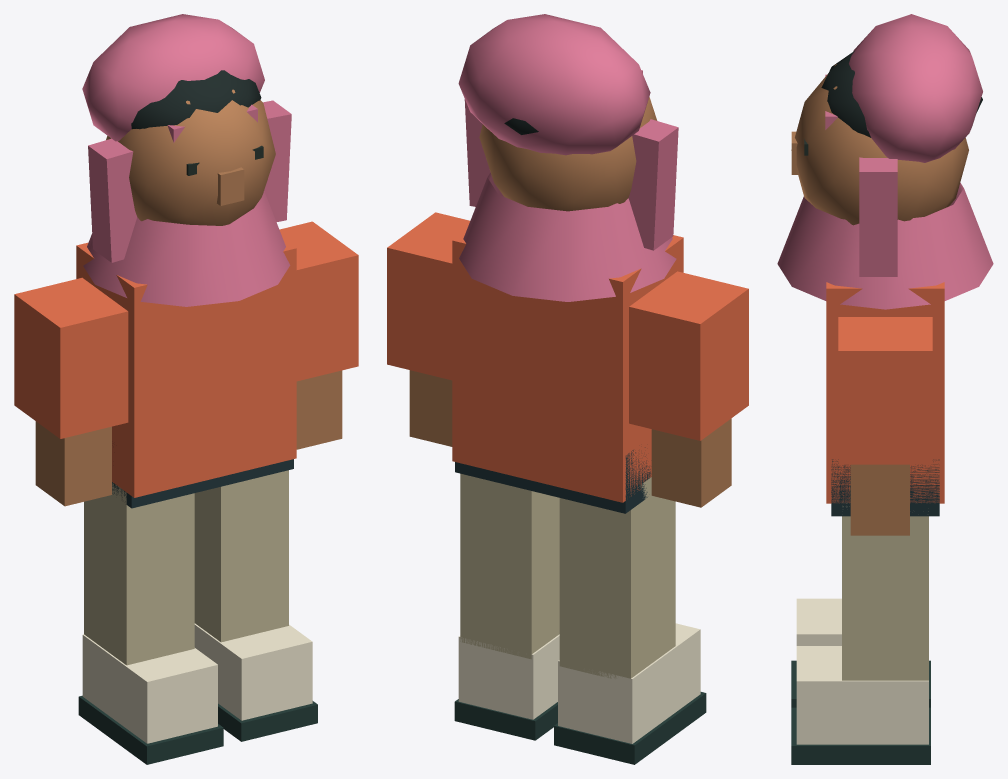
Rendered from female-tudung-ruffle.glb.
The picture shows the model from 3 angles, left to right: view 1: azimuth 30°, elevation 25°; view 2: azimuth 150°, elevation 25°; view 3: azimuth 270°, elevation 25°; orthographic projection. The views are drawn at different scales.
Visible parts, largest first — view 1: female-tudung-ruffle, avatar-tudung, tudung-neck-wrap; view 2: female-tudung-ruffle, avatar-tudung, tudung-neck-wrap; view 3: female-tudung-ruffle, avatar-tudung, tudung-neck-wrap.
Part boxes in pixels (x1=…): female-tudung-ruffle: x1=14, y1=70, x2=358, y2=764; avatar-tudung: x1=82, y1=14, x2=291, y2=262; tudung-neck-wrap: x1=83, y1=191, x2=290, y2=306; female-tudung-ruffle: x1=387, y1=97, x2=748, y2=764; avatar-tudung: x1=458, y1=14, x2=678, y2=250; tudung-neck-wrap: x1=459, y1=172, x2=676, y2=301; female-tudung-ruffle: x1=791, y1=51, x2=982, y2=764; avatar-tudung: x1=825, y1=14, x2=982, y2=276; tudung-neck-wrap: x1=777, y1=183, x2=993, y2=309.
Size of the model in its own units: 1.01 by 2.2 by 0.62.
